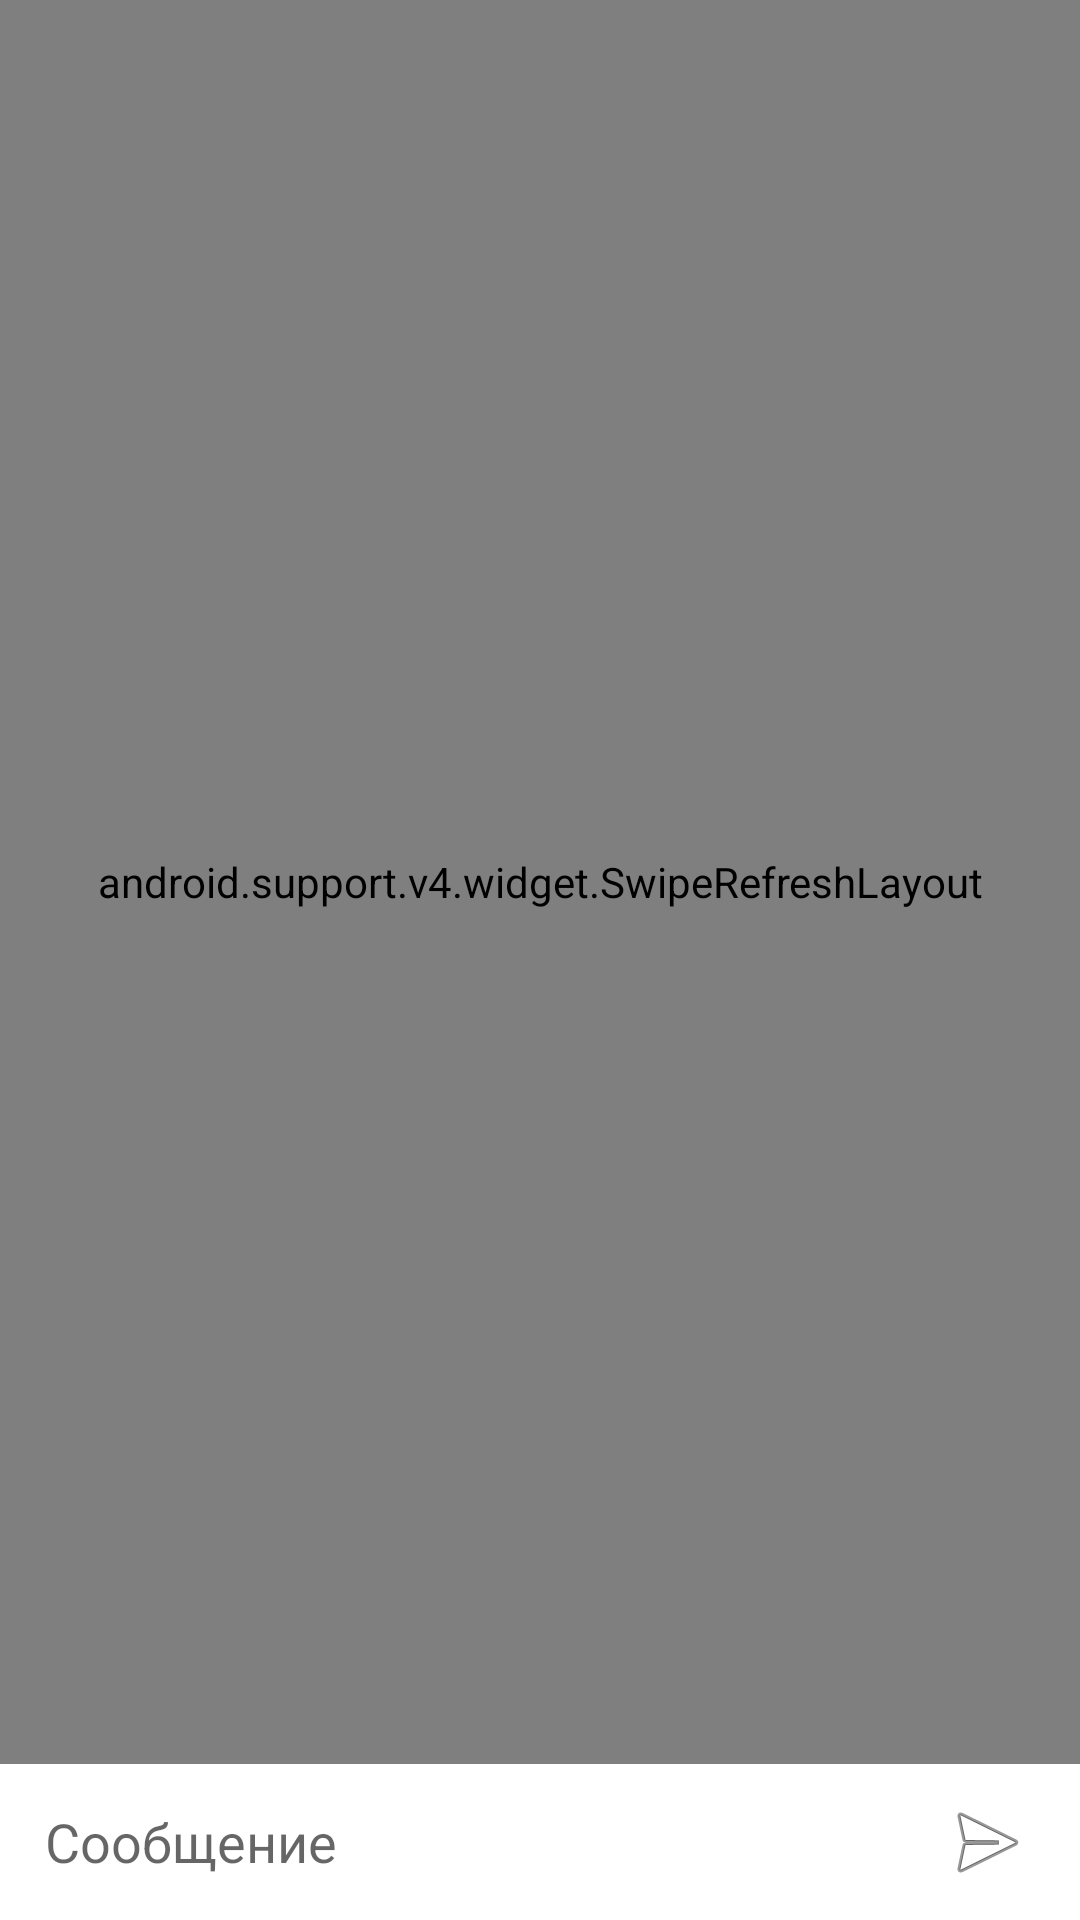

Icon click points for this 1080px x 1920px phone screenshot, format (x=x, y=y):
send: (x=988, y=1842)
